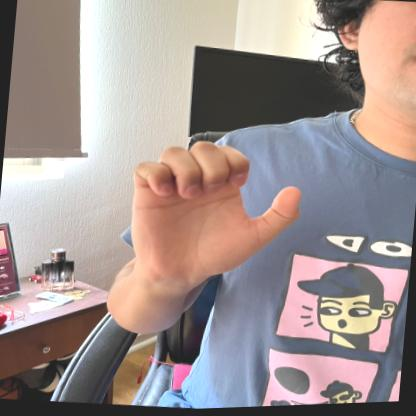E: (124, 124, 314, 295)
